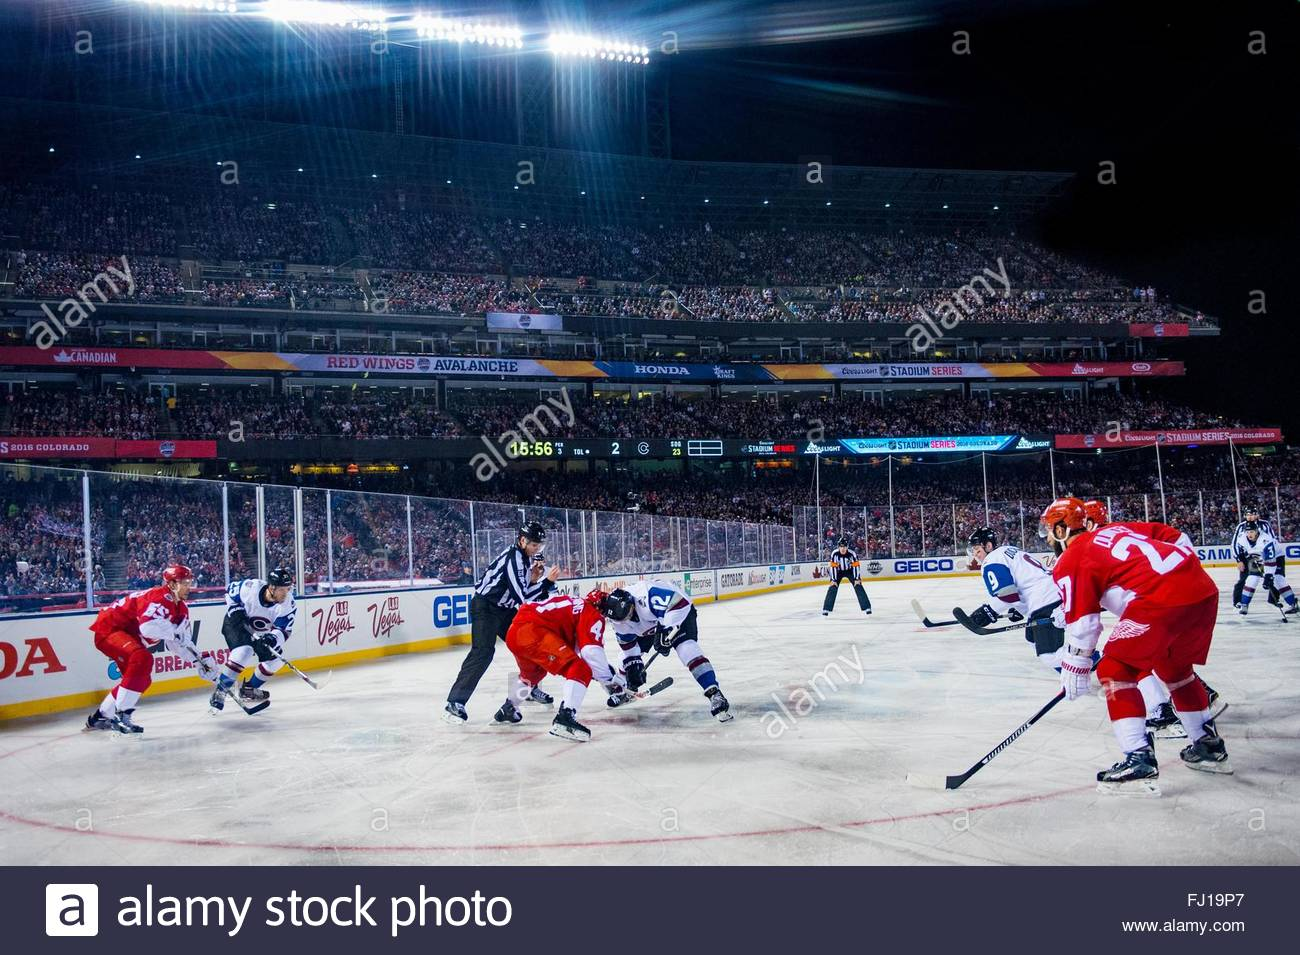geico: (889, 552, 954, 587), (430, 585, 472, 633)
